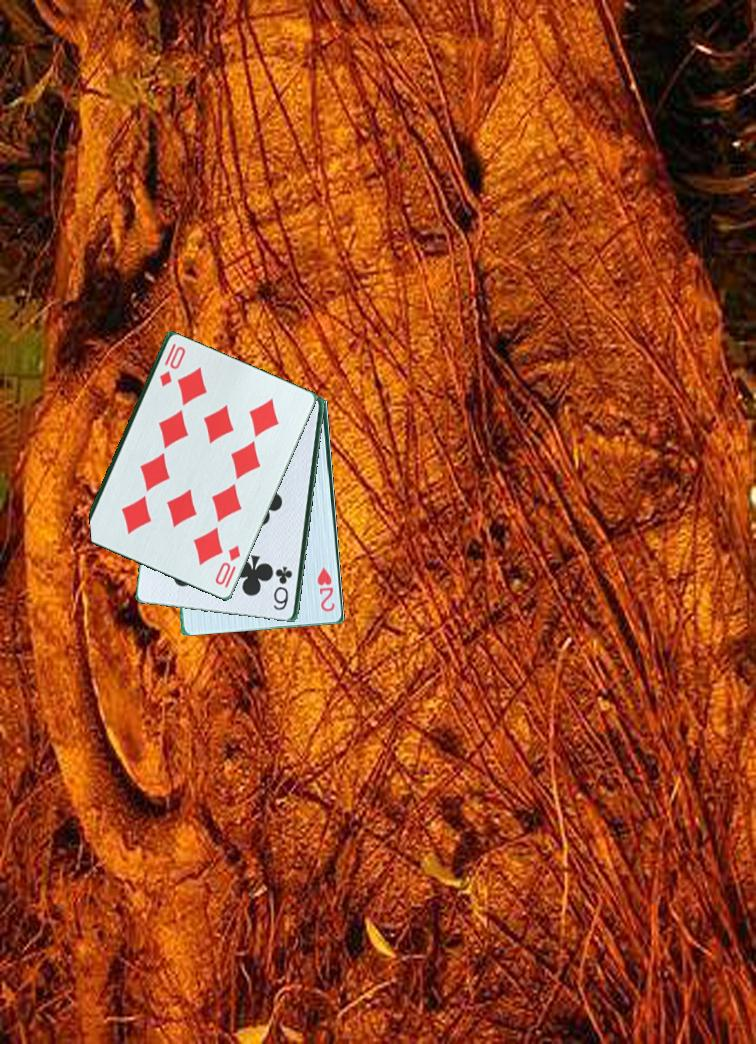2h: (315, 564, 338, 615)
6c: (272, 563, 295, 614)
td: (211, 542, 244, 588), (155, 340, 179, 393)
